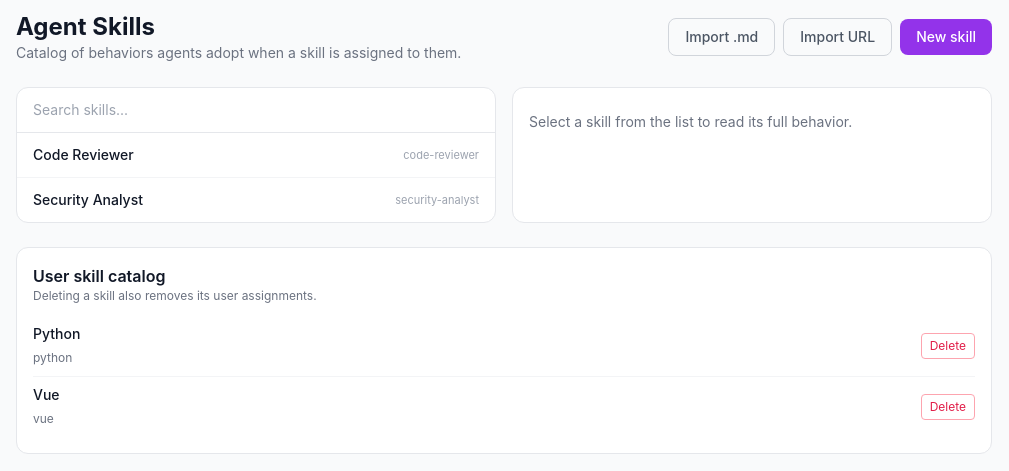
AgentSkillsView (issue #610) › removes a user skill catalog entry locally in mock mode
This screenshot has width=1009, height=471.
Click the button with aria-label "Delete Python" at (948, 346), box [921,333,975,359]
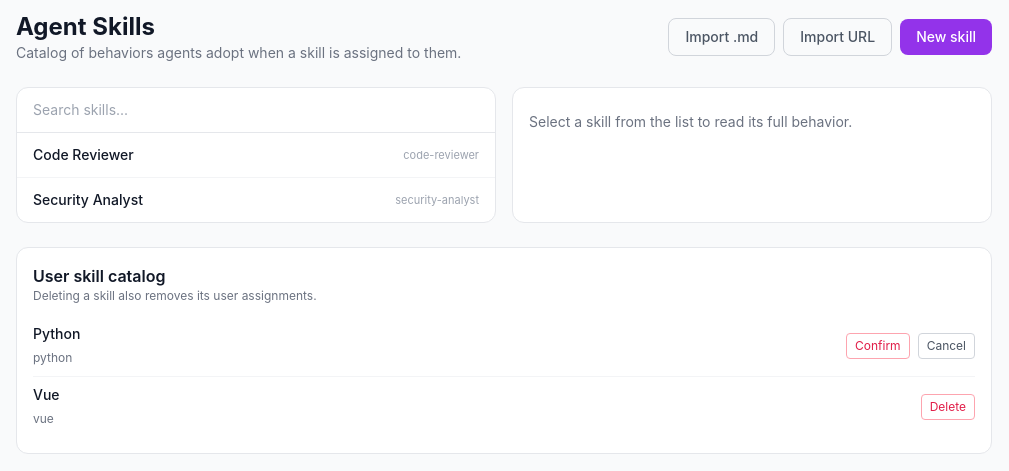
Click the button "Confirm" at (878, 346), box [846,333,910,359]
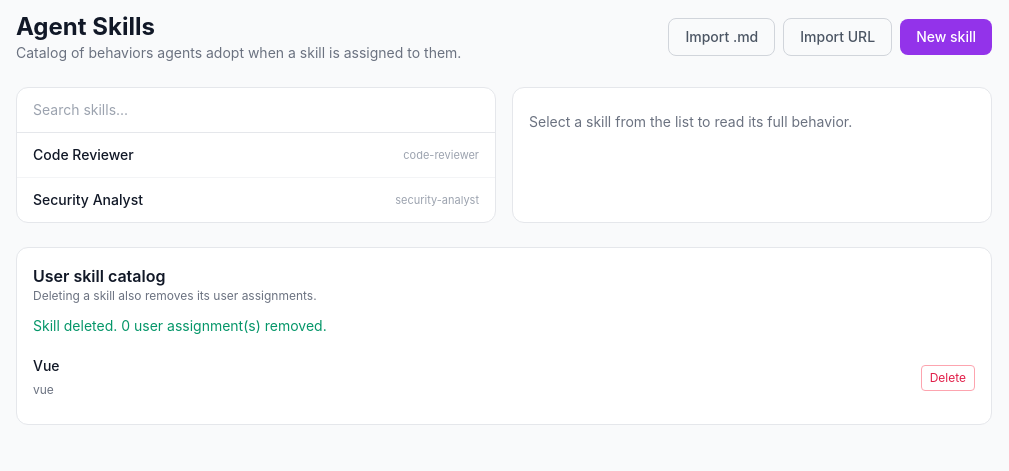
Result: the text "Python" is gone
